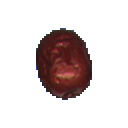gd: (20, 19, 109, 119)
